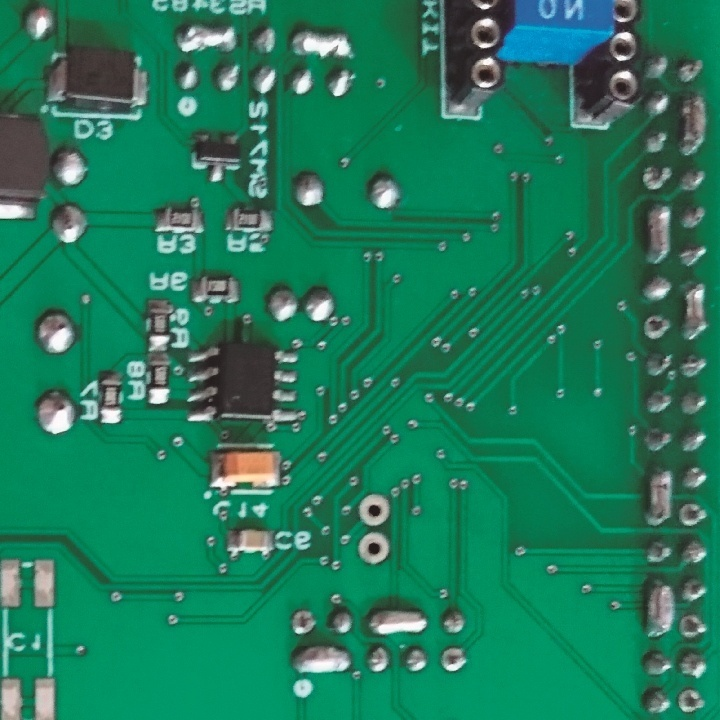F: (354, 492, 393, 528), (354, 530, 393, 566), (679, 496, 709, 531), (642, 160, 673, 192), (676, 683, 708, 714), (288, 606, 317, 640), (439, 644, 469, 676), (679, 613, 707, 644), (644, 312, 669, 342)
P: (287, 23, 354, 63), (175, 20, 241, 55), (291, 644, 353, 680), (644, 576, 676, 645), (644, 461, 675, 529), (367, 605, 429, 638), (681, 89, 707, 156), (683, 276, 707, 346), (644, 202, 670, 263)
